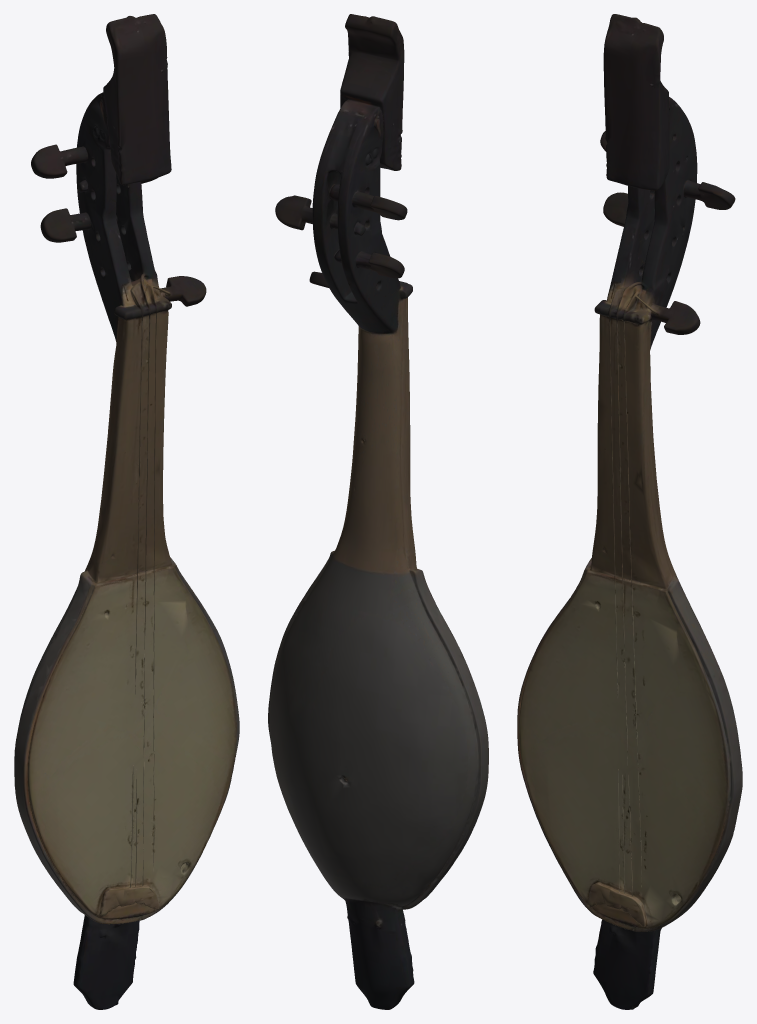
Rendered from gambus-pontianak.glb.
The picture shows the model from 3 angles, left to right: view 1: azimuth 30°, elevation 25°; view 2: azimuth 150°, elevation 25°; view 3: azimuth 330°, elevation 25°; orthographic projection. The views are drawn at different scales.
Visible parts, largest first — view 1: Object_4; view 2: Object_4; view 3: Object_4.
Part boxes in pixels (x1,y1,x2,y2): Object_4: (14,14,239,1009); Object_4: (268,14,488,1009); Object_4: (517,14,742,1009).
Bounding box in the file's own units: 0.2741 × 1.2 × 0.1318.
Materials: 1 (1 with a texture image).
